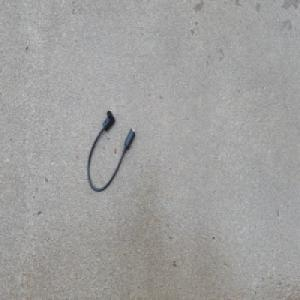Wire: (86, 109, 136, 194)
